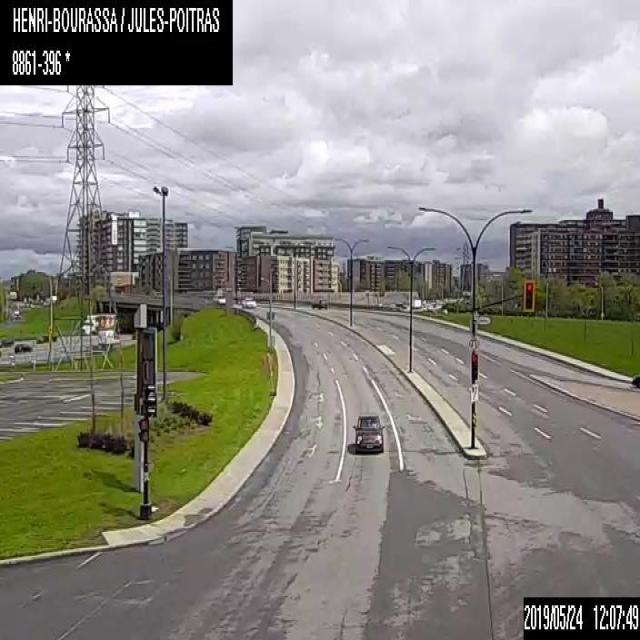vehicle: (351, 414, 385, 452), (81, 312, 114, 334), (13, 341, 32, 352), (240, 295, 256, 308), (312, 297, 328, 309), (631, 372, 639, 388), (216, 291, 224, 304)
